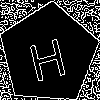H: (24, 29, 70, 82)
